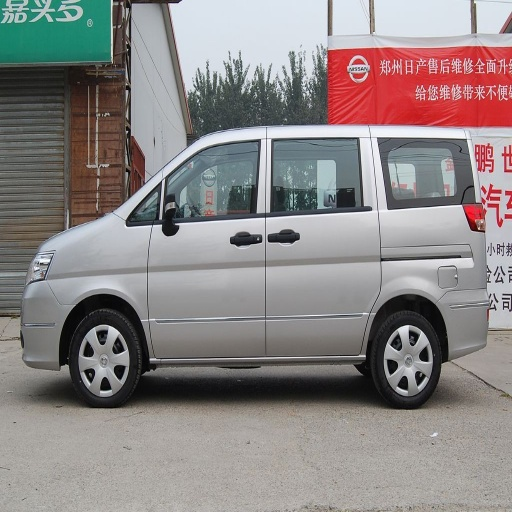front_left_door: (138, 137, 268, 357)
trunk: (356, 235, 486, 351)
